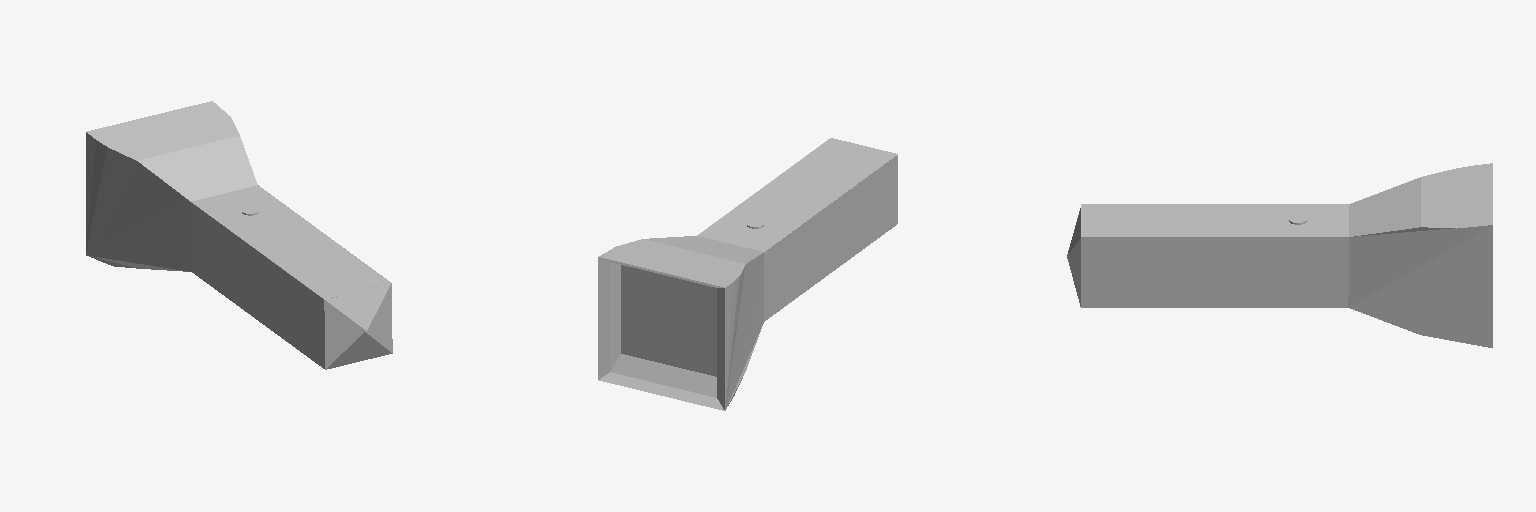
File: flashlight1.obj
3 renders of one model, left to right at view 1: azimuth 30°, elevation 25°; view 2: azimuth 150°, elevation 25°; view 3: azimuth 270°, elevation 25°, orthographic.
Visible parts, largest first — view 1: Cube; view 2: Cube; view 3: Cube.
Boxes of the visible parts, box(x1,y1,x2,y2) form: Cube: box(86, 101, 392, 369); Cube: box(598, 138, 897, 410); Cube: box(1067, 163, 1492, 347).
Size of the model in its own units: 1.51 by 1.4 by 4.38.